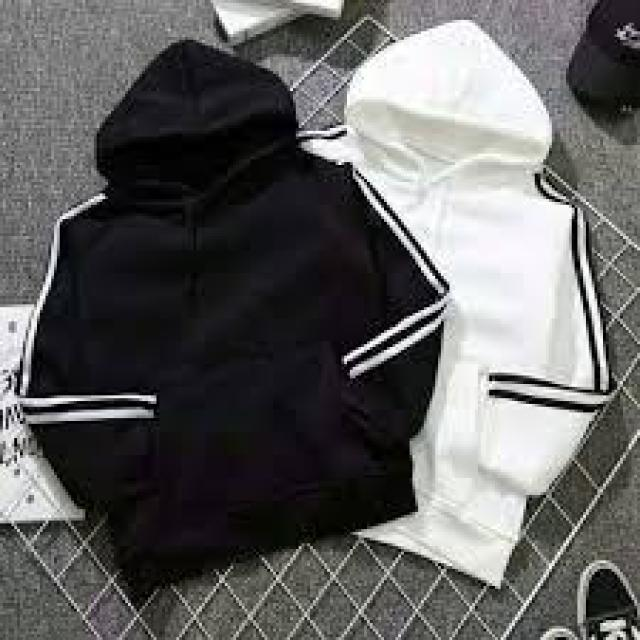sweater: (20, 40, 441, 589), (293, 16, 626, 593)
